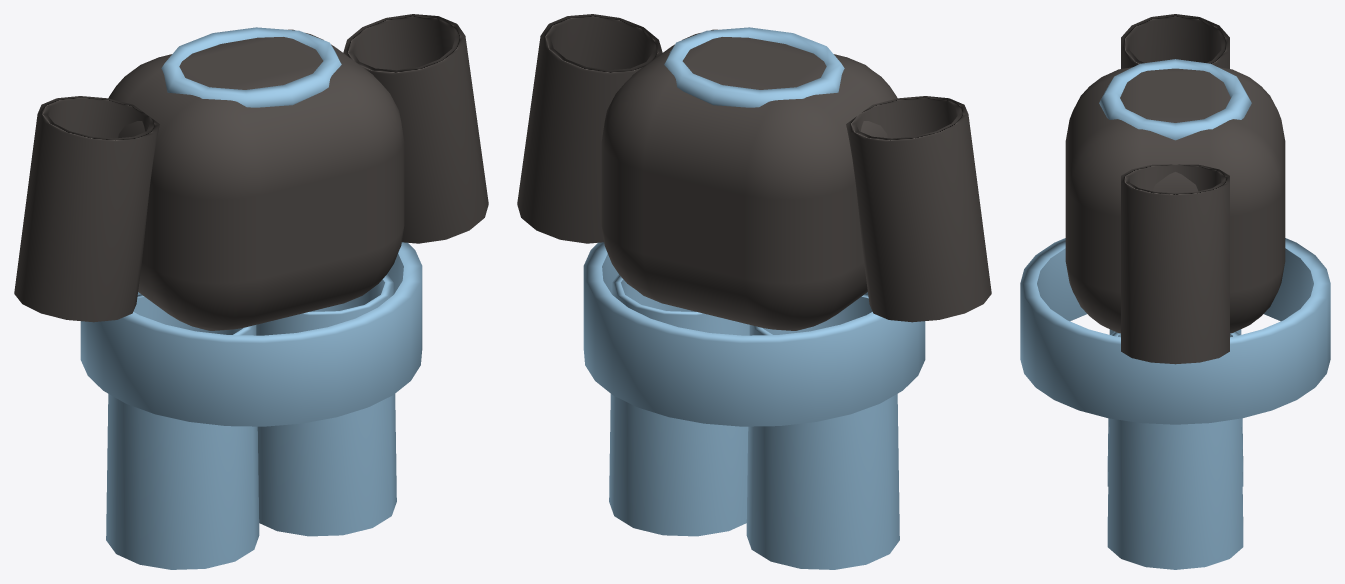
Rendered from baji_jeogori.glb.
3 views of the same model, side by side, from view 1: azimuth 30°, elevation 25°; view 2: azimuth 150°, elevation 25°; view 3: azimuth 270°, elevation 25° (orthographic). The views are drawn at different scales.
Visible parts, largest first — view 1: baji_jeogori_Body, baji_jeogori_ArmL, baji_jeogori_LegL, baji_jeogori_ArmR, baji_jeogori_LegR; view 2: baji_jeogori_Body, baji_jeogori_ArmL, baji_jeogori_LegL, baji_jeogori_ArmR, baji_jeogori_LegR; view 3: baji_jeogori_Body, baji_jeogori_ArmR, baji_jeogori_LegR, baji_jeogori_ArmL.
Part boxes in pixels (x1,y1,x2,y2): baji_jeogori_Body: [80, 27, 422, 426]; baji_jeogori_ArmL: [14, 96, 159, 322]; baji_jeogori_LegL: [106, 293, 259, 569]; baji_jeogori_ArmR: [343, 14, 488, 243]; baji_jeogori_LegR: [256, 274, 396, 536]; baji_jeogori_Body: [583, 27, 925, 426]; baji_jeogori_ArmL: [846, 96, 991, 322]; baji_jeogori_LegL: [746, 293, 899, 569]; baji_jeogori_ArmR: [517, 14, 662, 243]; baji_jeogori_LegR: [609, 274, 749, 536]; baji_jeogori_Body: [1020, 59, 1330, 424]; baji_jeogori_ArmR: [1121, 164, 1229, 364]; baji_jeogori_LegR: [1107, 331, 1243, 569]; baji_jeogori_ArmL: [1121, 14, 1229, 68].
Bounding box in the file's own units: 0.6334 × 0.6069 × 0.41.
